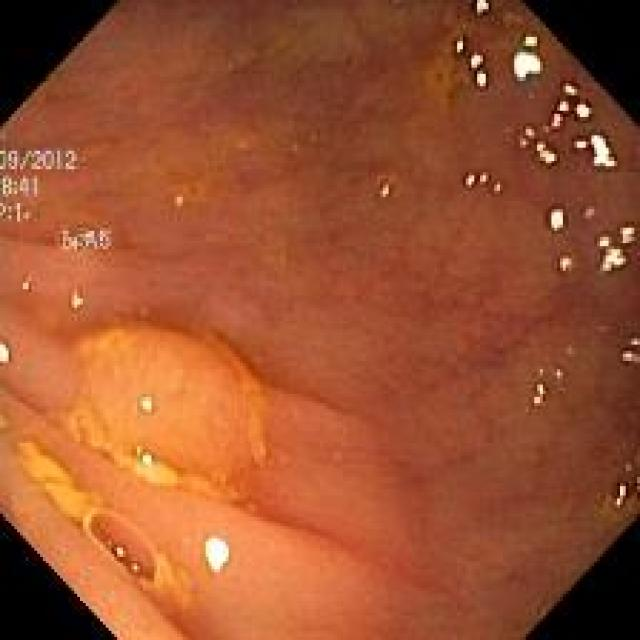Polyps: (68, 324, 269, 499)
